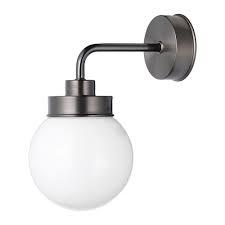Lamp: (28, 8, 199, 211)
